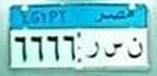6: (13, 34, 28, 64), (46, 34, 60, 64), (29, 34, 44, 62), (62, 33, 76, 62)
noon: (126, 35, 144, 61)
raa: (83, 36, 100, 62)
seen: (103, 39, 124, 61)
